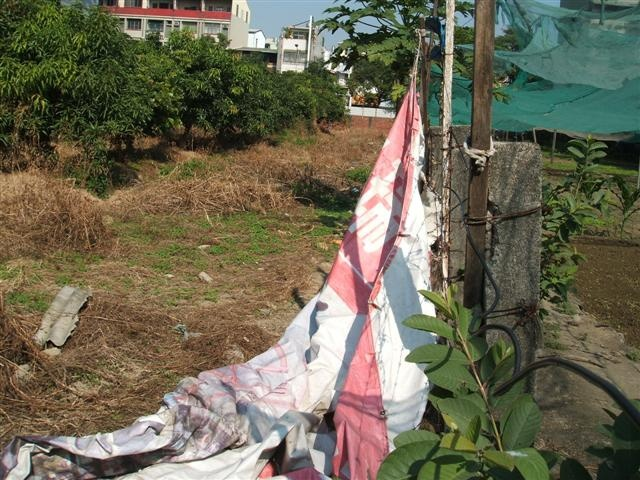plastic_bag: (2, 343, 434, 480)
